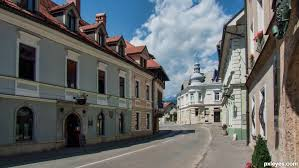strada: (13, 128, 279, 166)
